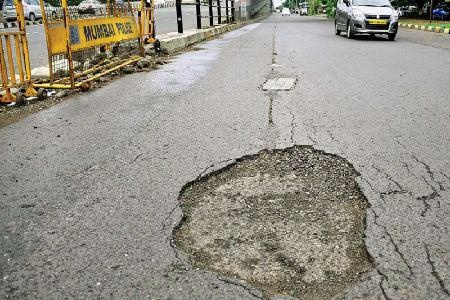pothole: (167, 139, 375, 299)
